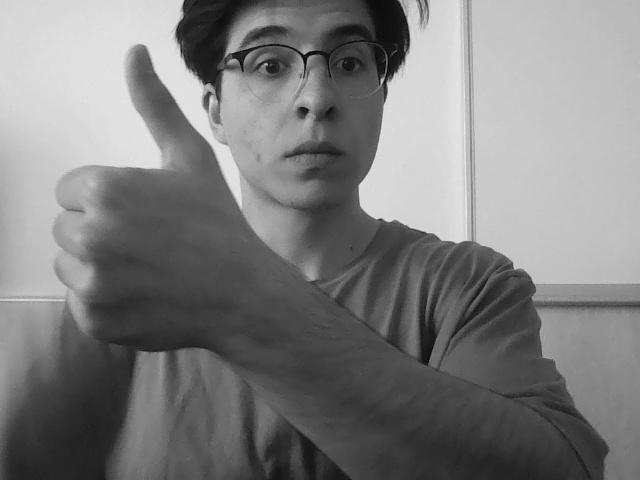good: (45, 38, 244, 348)
